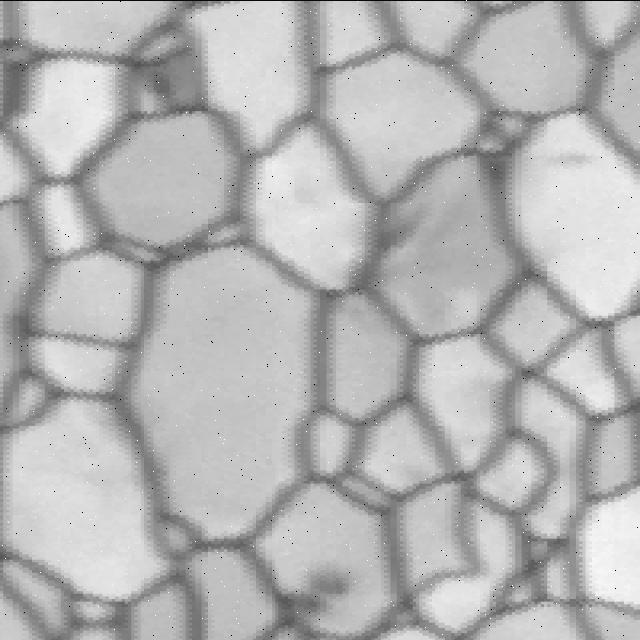good_void: (353, 193, 431, 269), (272, 561, 360, 618), (543, 146, 601, 175), (291, 182, 335, 209)
